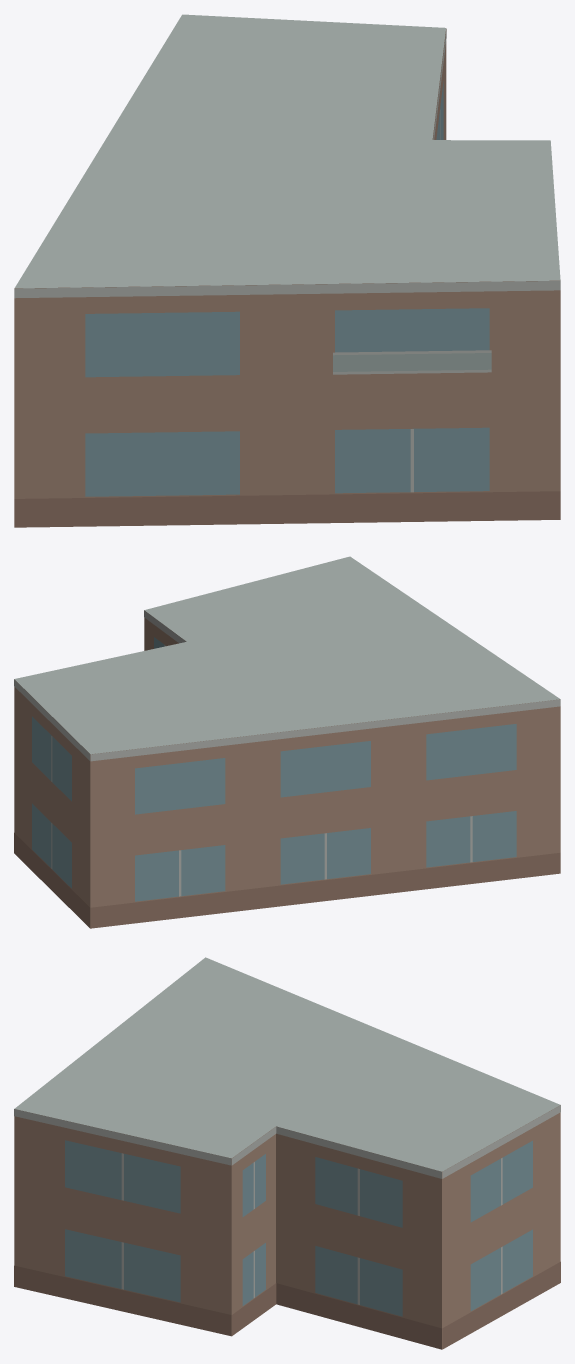
The model's file is survey-upis-32622166.glb.
3 views of the same model, one above another, from view 1: azimuth 30°, elevation 25°; view 2: azimuth 150°, elevation 25°; view 3: azimuth 270°, elevation 25° (orthographic). The views are drawn at different scales.
Parts seen in each view (by area): view 1: survey-upis-32622166.tmp; view 2: survey-upis-32622166.tmp; view 3: survey-upis-32622166.tmp.
Boxes of the visible parts, <box> form: survey-upis-32622166.tmp: <box>14,14,560,527</box>; survey-upis-32622166.tmp: <box>14,556,560,928</box>; survey-upis-32622166.tmp: <box>14,957,560,1349</box>.
Bounding box in the file's own units: 10.1 × 3.9 × 10.87.
